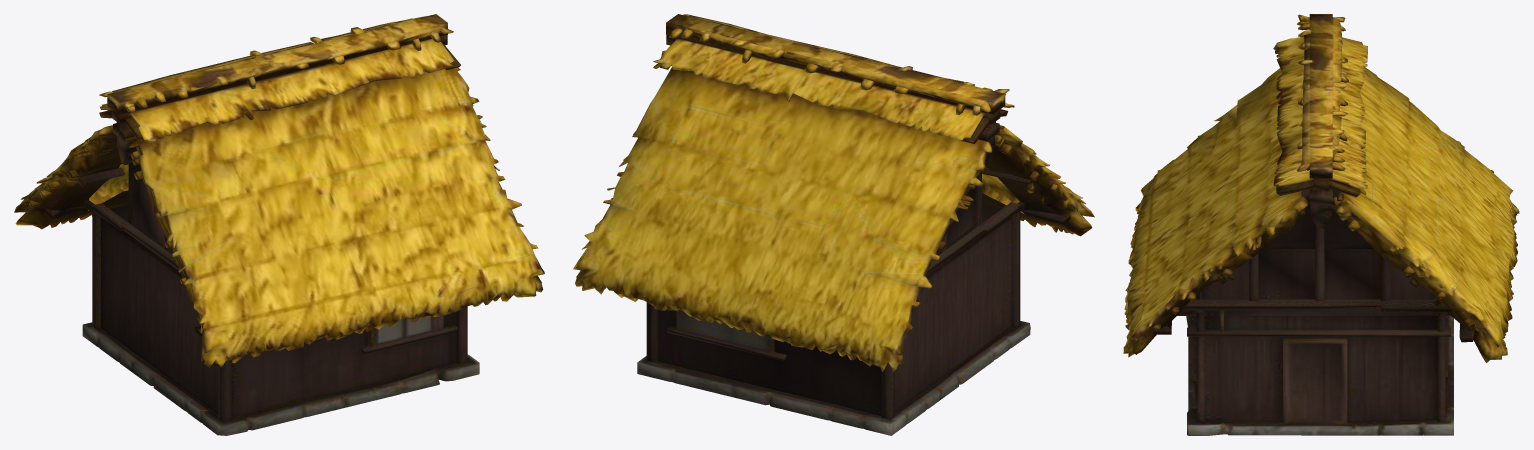
Rendered from hut_thatch.glb.
3 renders of one model, left to right at view 1: azimuth 30°, elevation 25°; view 2: azimuth 150°, elevation 25°; view 3: azimuth 270°, elevation 25°, orthographic. The views are drawn at different scales.
Bounding box in the file's own units: 6.5 × 5.34 × 6.69.
1 material, 1 textured.
